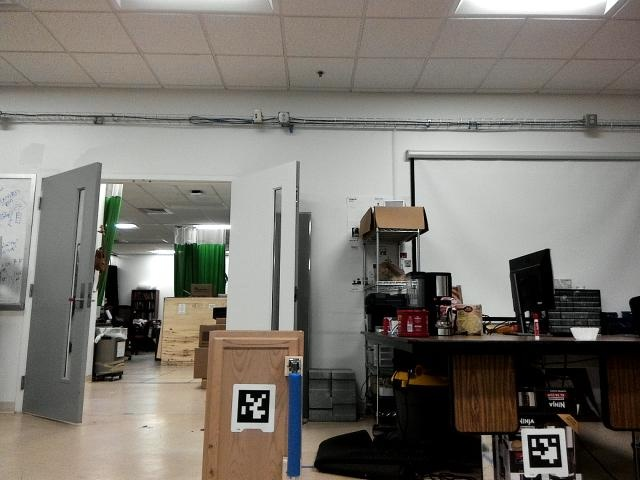noodle_handle: (279, 366, 308, 480)
